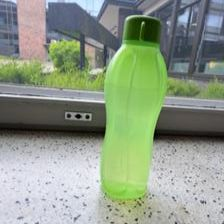bottle: (95, 11, 173, 198)
